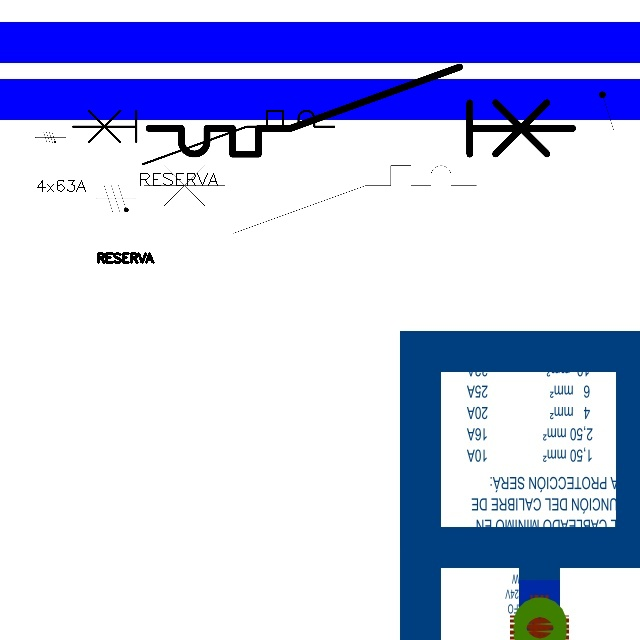interruptor_termomagnetico: (138, 56, 584, 165), (135, 157, 485, 242), (66, 104, 341, 171)
